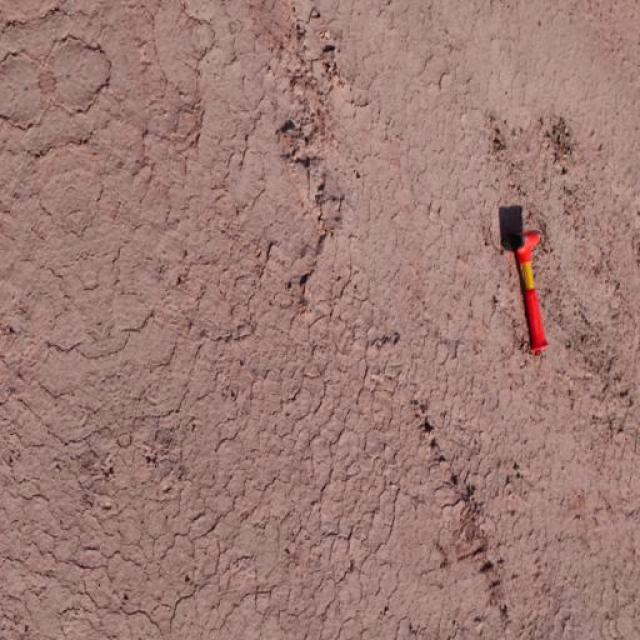mallet: (499, 229, 551, 355)
